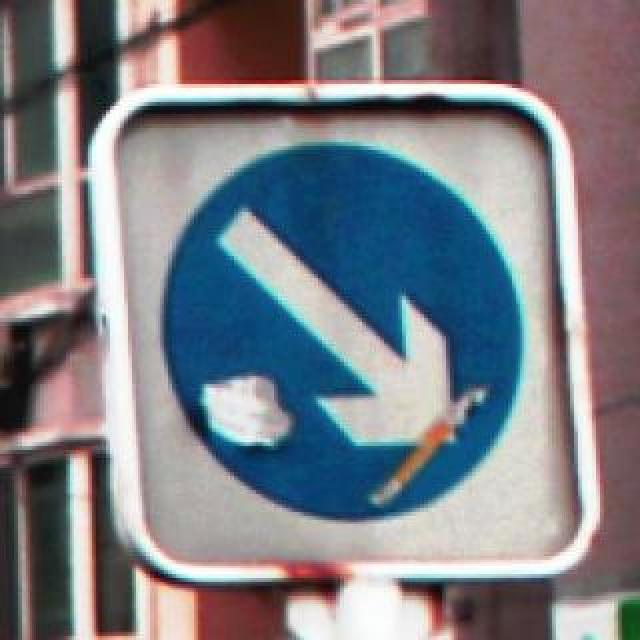keep right: (146, 132, 538, 530)
